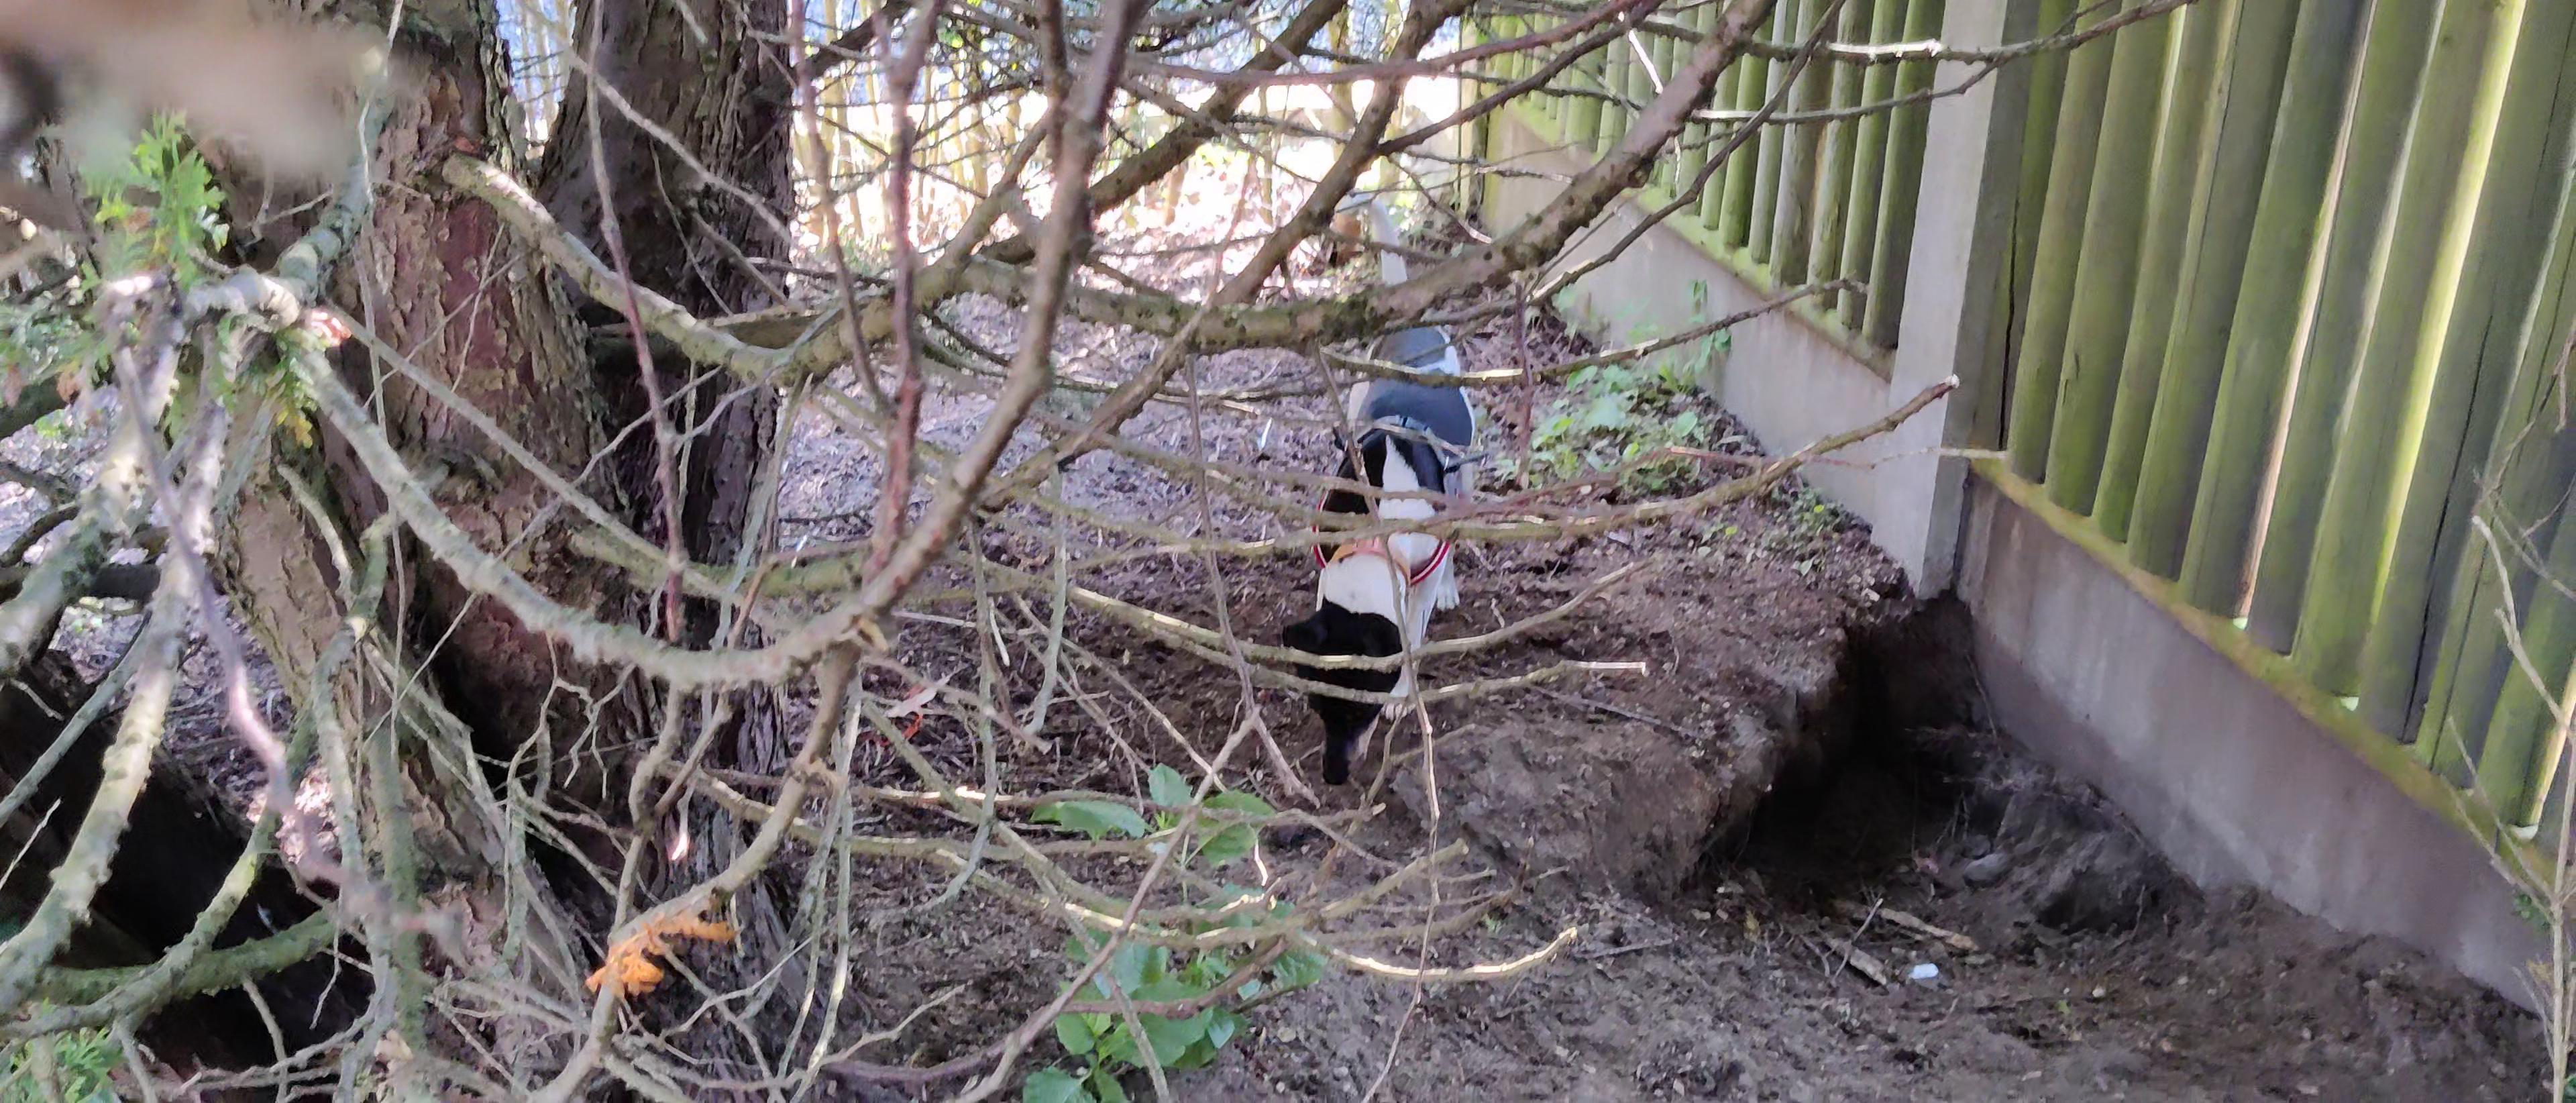Dog: (1270, 178, 1482, 789)
